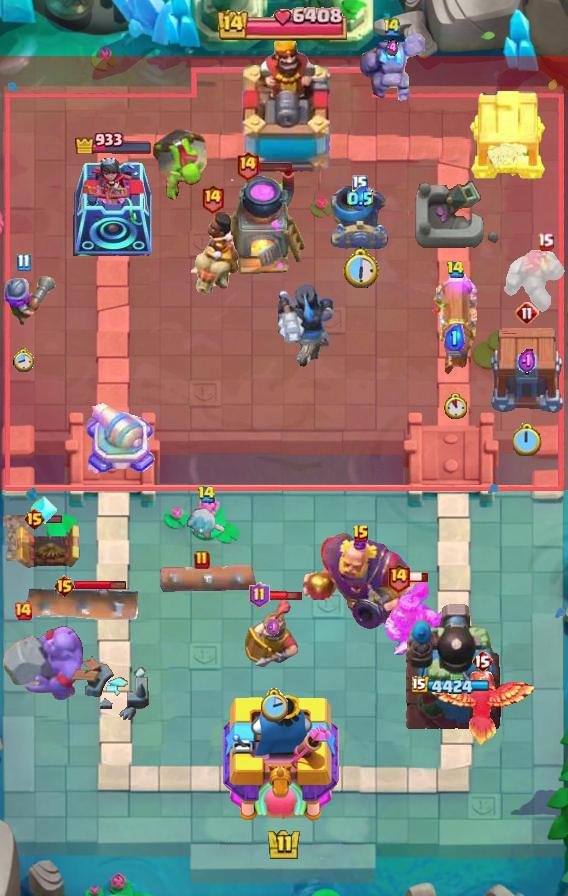archer-queen: (0, 625, 88, 705)
bar-level: (150, 124, 210, 200)
bat: (184, 506, 228, 544)
battle-healer: (432, 273, 478, 377)
bomb: (468, 87, 548, 181), (488, 328, 566, 414)
bomb-tower: (0, 274, 56, 330)
clock: (217, 6, 351, 40)
earthquake: (245, 597, 301, 673)
electro-spirit: (347, 186, 373, 212), (445, 324, 465, 351), (518, 349, 536, 376), (266, 619, 281, 637), (386, 39, 398, 57)
elite-barbarian: (184, 211, 240, 299)
elixir: (341, 247, 379, 289), (259, 688, 288, 722), (513, 423, 542, 456), (445, 393, 468, 419), (12, 348, 34, 373)
elixir-golem-big: (382, 580, 452, 656)
emote: (73, 581, 126, 592), (268, 590, 304, 603), (257, 160, 293, 172), (409, 571, 429, 583), (44, 514, 63, 524)
fisherman: (0, 515, 38, 561)
goblin-brawler: (12, 523, 84, 571)
golden-knight: (426, 669, 538, 749)
hunter: (219, 170, 309, 278)
inferno-dragon: (275, 281, 335, 371)
king-tower: (223, 689, 345, 826), (228, 41, 340, 181)
lightning: (300, 533, 424, 631)
minion: (20, 582, 142, 626), (148, 561, 256, 597)
musketeer: (330, 185, 390, 249)
pad_2: (29, 495, 59, 525)
queen-tower: (73, 158, 155, 256)
royal-recruit: (82, 399, 159, 481)
selected: (74, 129, 154, 154), (412, 675, 494, 697)
text: (236, 151, 261, 182), (199, 182, 224, 213), (385, 562, 410, 593), (515, 301, 539, 325), (22, 507, 45, 531), (52, 574, 75, 598), (249, 582, 270, 608), (471, 649, 493, 673), (382, 15, 402, 37), (13, 601, 33, 621), (446, 260, 466, 279), (196, 484, 216, 503), (352, 524, 370, 544), (538, 232, 555, 251), (194, 550, 210, 570), (352, 175, 368, 193), (17, 253, 32, 272)
tower-bar: (403, 601, 503, 731)
valkyrie-evolution: (500, 248, 568, 318), (359, 30, 425, 102)
